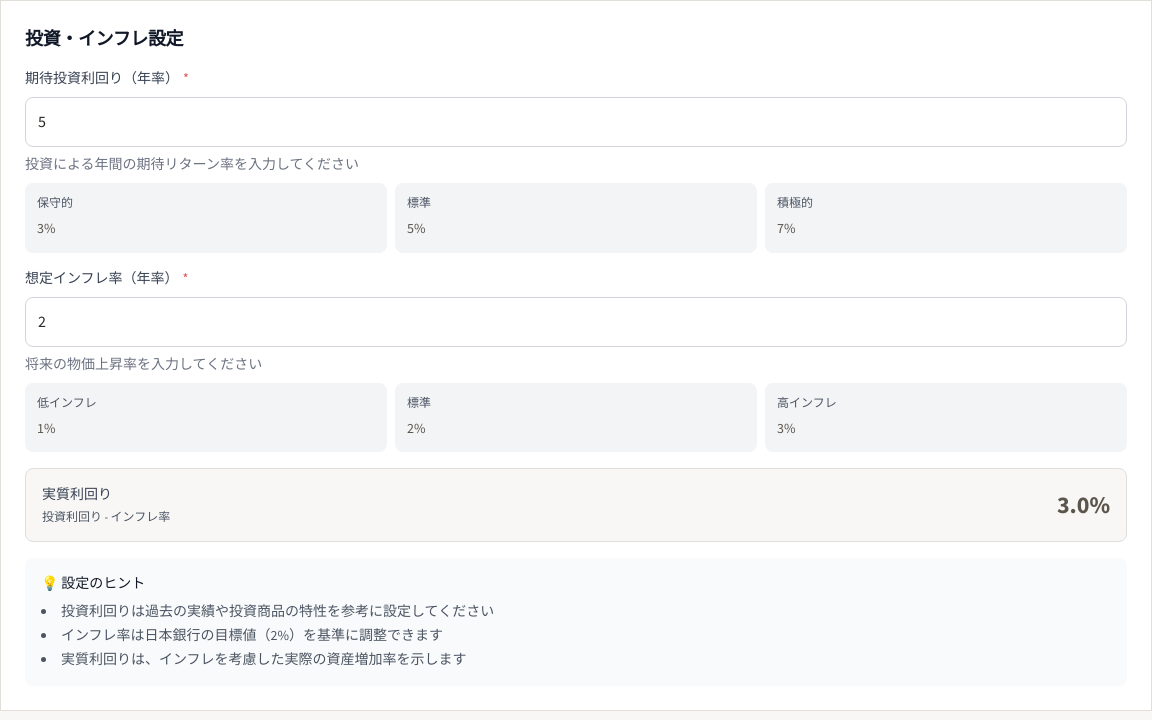
Test: InvestmentSettingsForm › プリセットボタン › 積極的プリセット（7%）をクリックすると投資利回りが更新される
The image size is (1152, 720).
Click the button "7%": point(786, 229) [777,219,796,239]
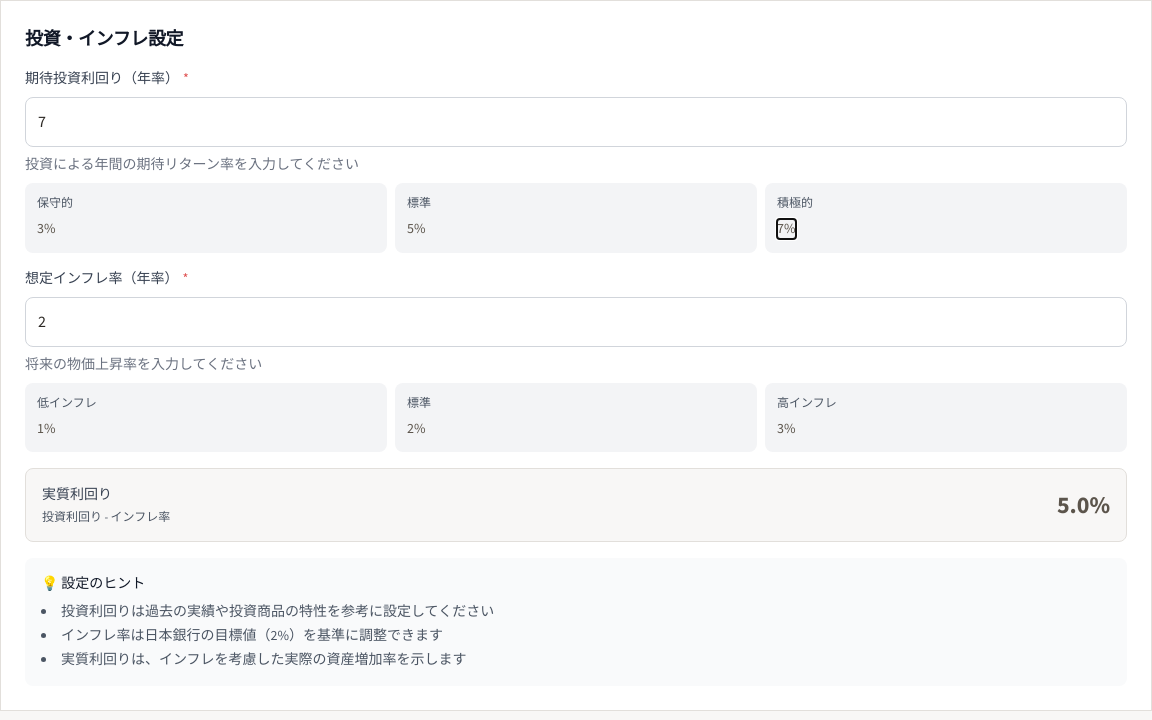
Expected: the text "5.0%" is shown, [1057,489,1110,521]
